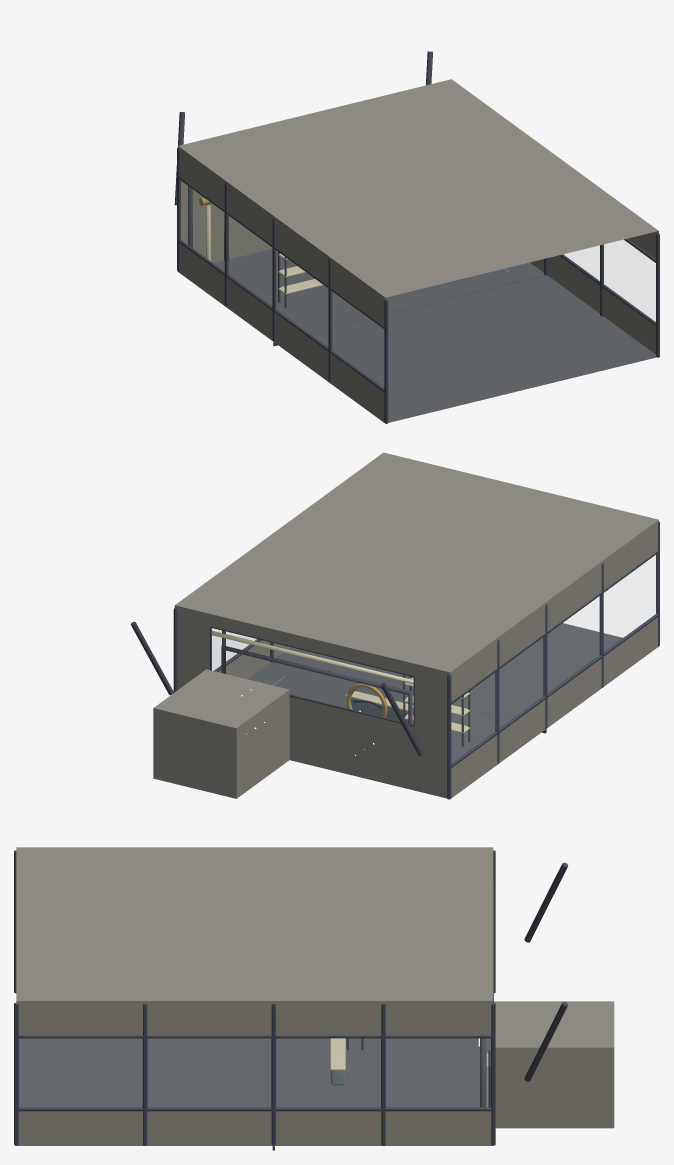
The model's file is depot.glb.
3 views of the same model, one above another, from view 1: azimuth 30°, elevation 25°; view 2: azimuth 150°, elevation 25°; view 3: azimuth 270°, elevation 25° (orthographic). The views are drawn at different scales.
Visible parts, largest first — view 1: Roof panels - Wall, Floor extension - Floor, Port wall - Wall, Floor - Floor, Port wall - Rib, Starboard wall - Wall, Rear bulkhead - Wall, Starboard wall - Rib; view 2: Roof panels - Wall, Rear bulkhead - Wall, Port wall - Wall, Stockroom - Wall, Floor extension - Floor, Store lid - Wall, Floor - Floor, Port wall - Rib, Signature architecture - Rib, Rear bulkhead - Rib, Signature architecture - Pale, Outside the glazing - Rib (+2 smaller); view 3: Roof panels - Wall, Starboard wall - Wall, Floor extension - Floor, Floor - Floor, Stockroom - Wall, Starboard wall - Rib, Store lid - Wall, Outside the glazing - Rib, Port wall - Rib, Signature architecture - Rib, Counter - Pale.
Part boxes in pixels (bbox=[...]): Roof panels - Wall: bbox=[178, 79, 658, 297]; Floor extension - Floor: bbox=[309, 275, 656, 422]; Port wall - Wall: bbox=[178, 146, 385, 422]; Floor - Floor: bbox=[214, 249, 544, 332]; Port wall - Rib: bbox=[177, 148, 388, 423]; Starboard wall - Wall: bbox=[530, 231, 658, 354]; Rear bulkhead - Wall: bbox=[181, 181, 272, 263]; Starboard wall - Rib: bbox=[544, 233, 659, 357]; Roof panels - Wall: bbox=[175, 452, 658, 672]; Rear bulkhead - Wall: bbox=[174, 605, 450, 798]; Port wall - Wall: bbox=[450, 520, 658, 798]; Stockroom - Wall: bbox=[153, 690, 289, 798]; Floor extension - Floor: bbox=[273, 623, 622, 720]; Store lid - Wall: bbox=[154, 669, 289, 728]; Floor - Floor: bbox=[247, 662, 510, 763]; Port wall - Rib: bbox=[447, 521, 659, 799]; Signature architecture - Rib: bbox=[221, 645, 412, 723]; Rear bulkhead - Rib: bbox=[210, 626, 414, 726]; Signature architecture - Pale: bbox=[212, 631, 413, 684]; Outside the glazing - Rib: bbox=[130, 621, 423, 755]; Roof panels - Wall: bbox=[16, 847, 493, 1000]; Starboard wall - Wall: bbox=[16, 1001, 493, 1145]; Floor extension - Floor: bbox=[19, 1038, 271, 1107]; Floor - Floor: bbox=[276, 1038, 490, 1107]; Stockroom - Wall: bbox=[495, 1047, 614, 1128]; Starboard wall - Rib: bbox=[14, 1002, 495, 1145]; Store lid - Wall: bbox=[494, 1001, 614, 1047]; Outside the glazing - Rib: bbox=[524, 862, 568, 1081]; Port wall - Rib: bbox=[14, 850, 495, 993]; Signature architecture - Rib: bbox=[480, 1038, 490, 1107]; Counter - Pale: bbox=[330, 1038, 345, 1070].
Bounding box in the file's own units: 31.75 × 9.65 × 34.14.
